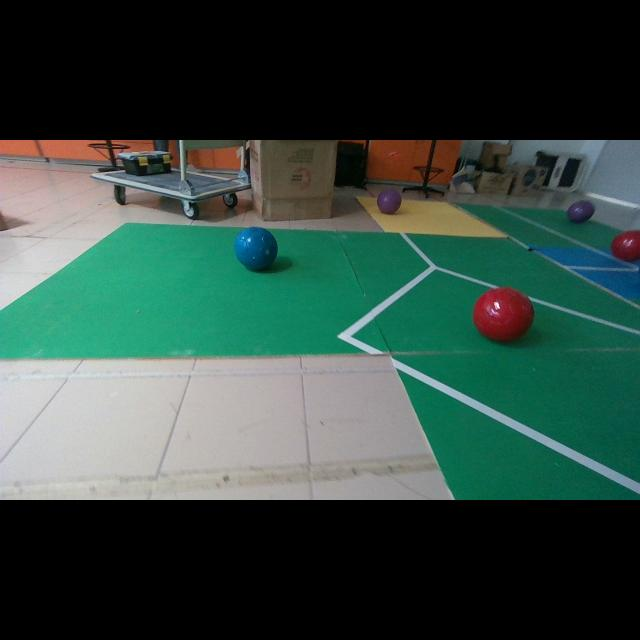B: (235, 226, 278, 271)
P: (568, 200, 595, 223), (378, 189, 401, 214)
R: (472, 288, 535, 341), (611, 230, 640, 261)
